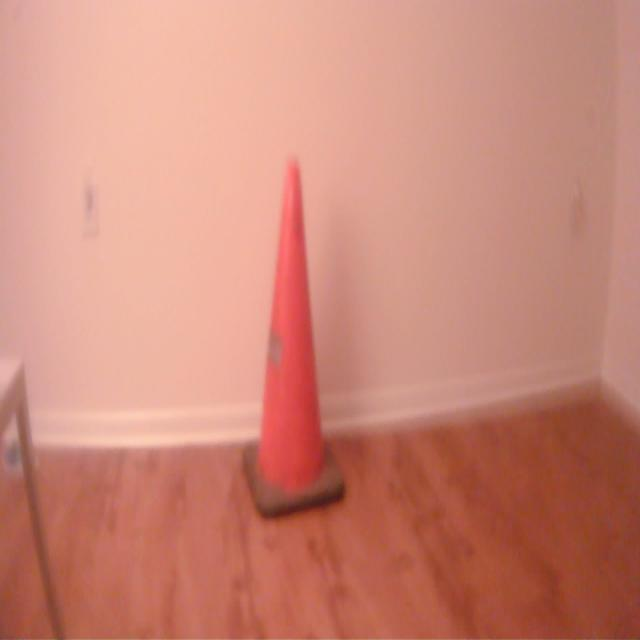traffic cone: (240, 154, 353, 536)
